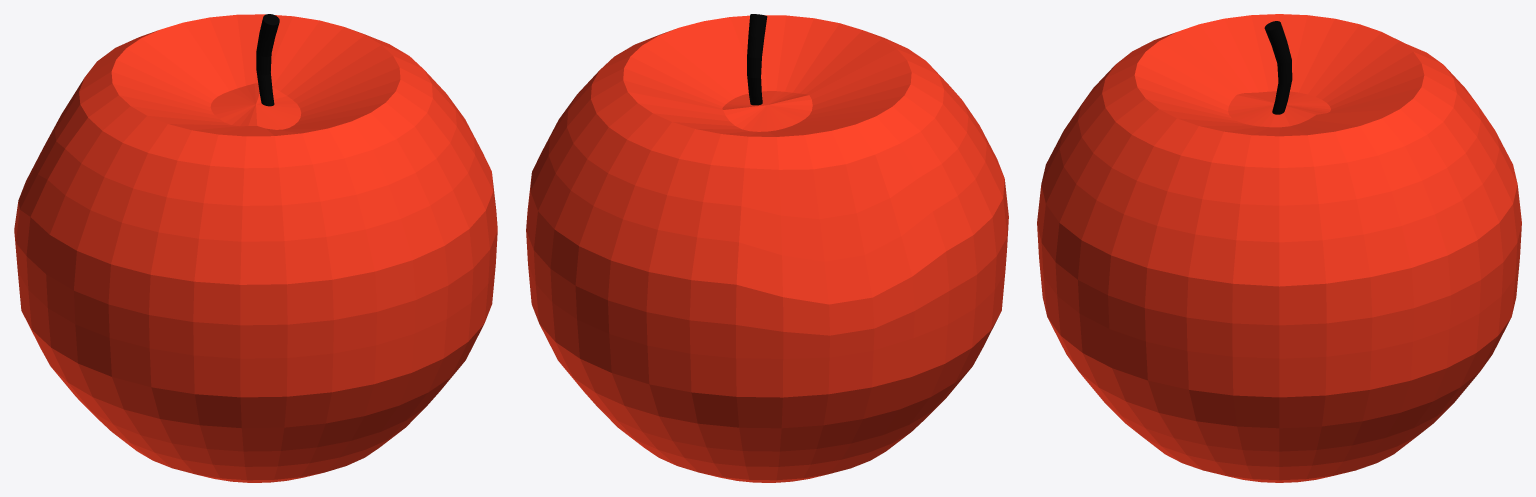
The model's file is Manzana2.fbx.
The picture shows the model from 3 angles, left to right: view 1: azimuth 30°, elevation 25°; view 2: azimuth 150°, elevation 25°; view 3: azimuth 270°, elevation 25°; orthographic projection.
Visible parts, largest first — view 1: Cylinder; view 2: Cylinder; view 3: Cylinder.
Boxes of the visible parts, x1=… form: Cylinder: x1=14, y1=14, x2=497, y2=482; Cylinder: x1=526, y1=14, x2=1008, y2=482; Cylinder: x1=1037, y1=14, x2=1521, y2=482.
Bounding box in the file's own units: 100 × 100 × 100.
Materials: 2 (1 with a texture image).
